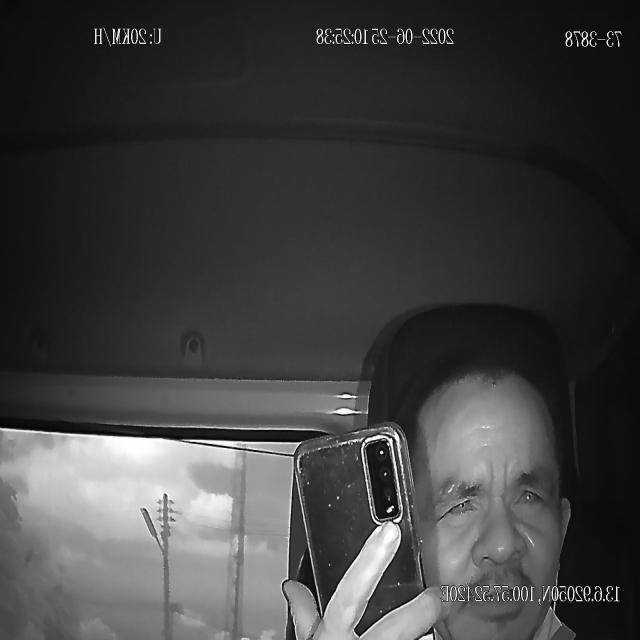phone: (294, 424, 434, 640)
